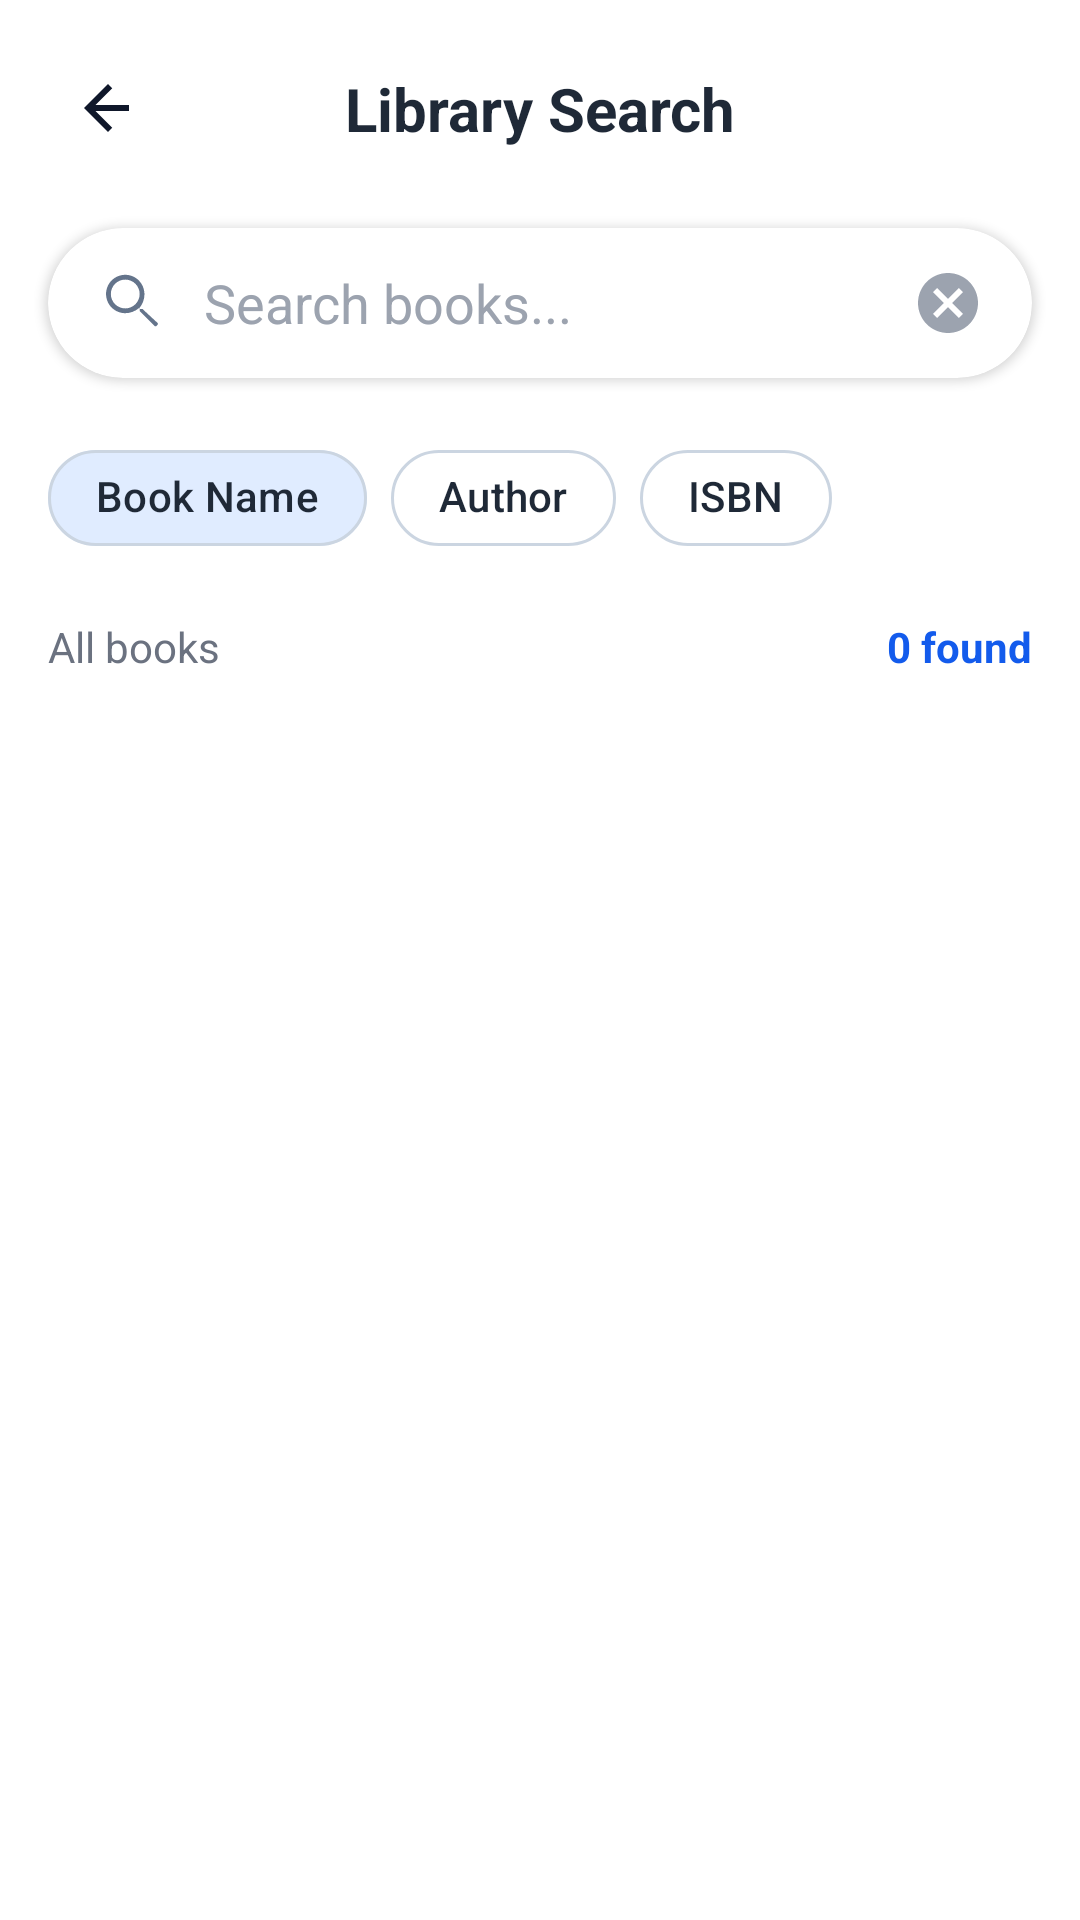

Named icons in this screenshot (1080x1920) and their centers, (x,y):
back: (106,108)
clear: (948,303)
